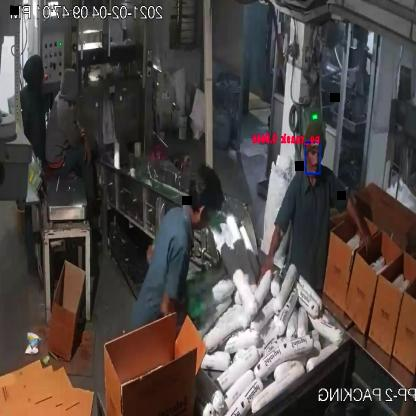no_glove: (334, 186, 379, 255), (253, 218, 292, 282)
